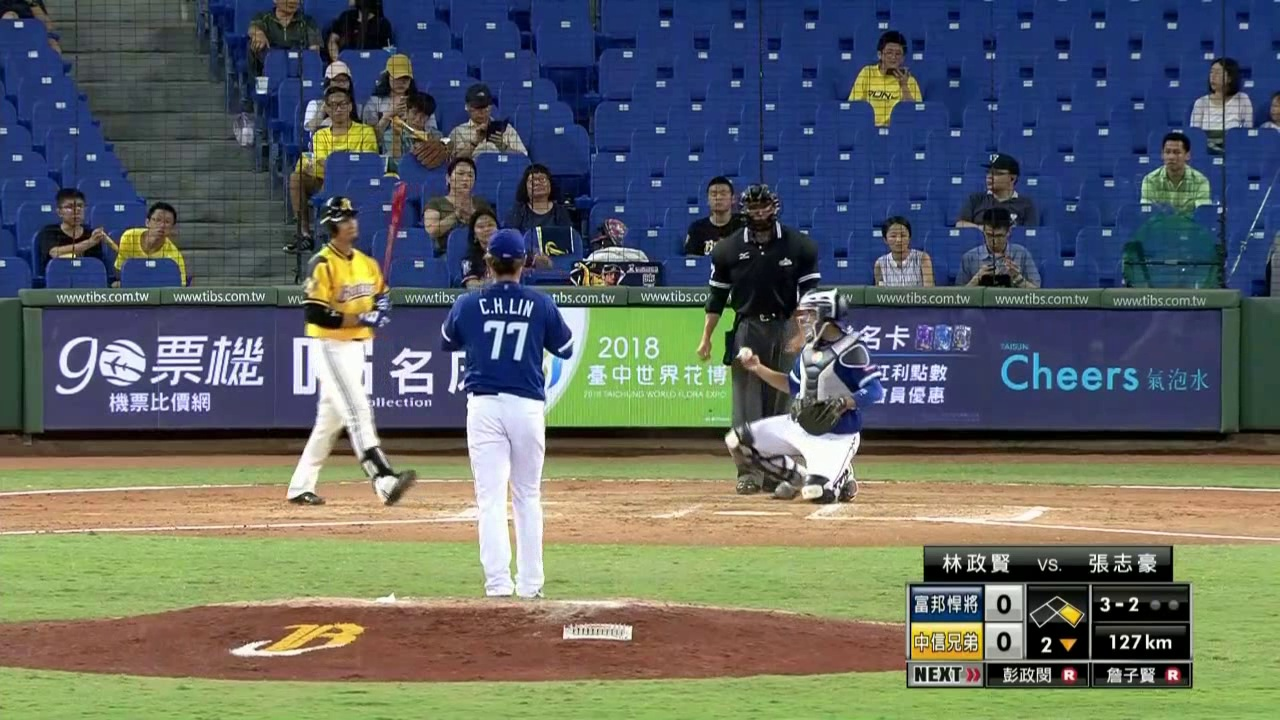ball: (735, 343, 754, 362)
base: (1029, 594, 1086, 627)
bat: (379, 178, 409, 303)
out: (1141, 586, 1188, 620)
score1: (987, 588, 1023, 620)
score2: (988, 626, 1019, 656)
session: (1027, 628, 1082, 656)
speed: (1100, 628, 1185, 657)
strikeball: (1094, 591, 1142, 621)
